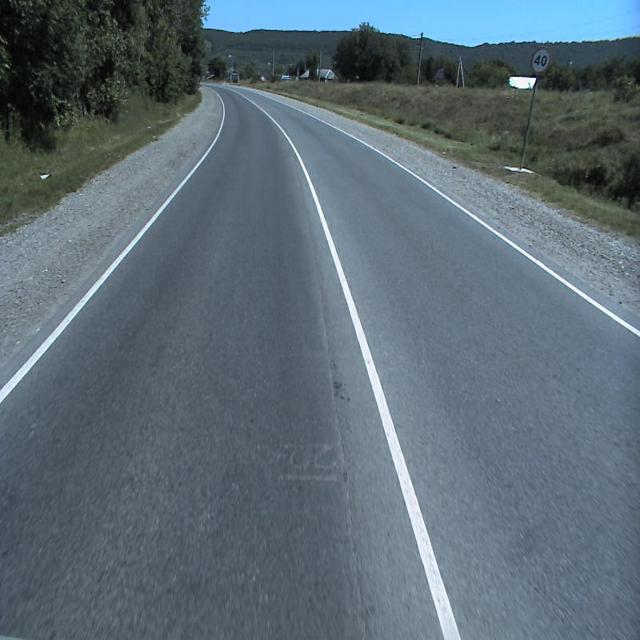road: (0, 82, 640, 639)
